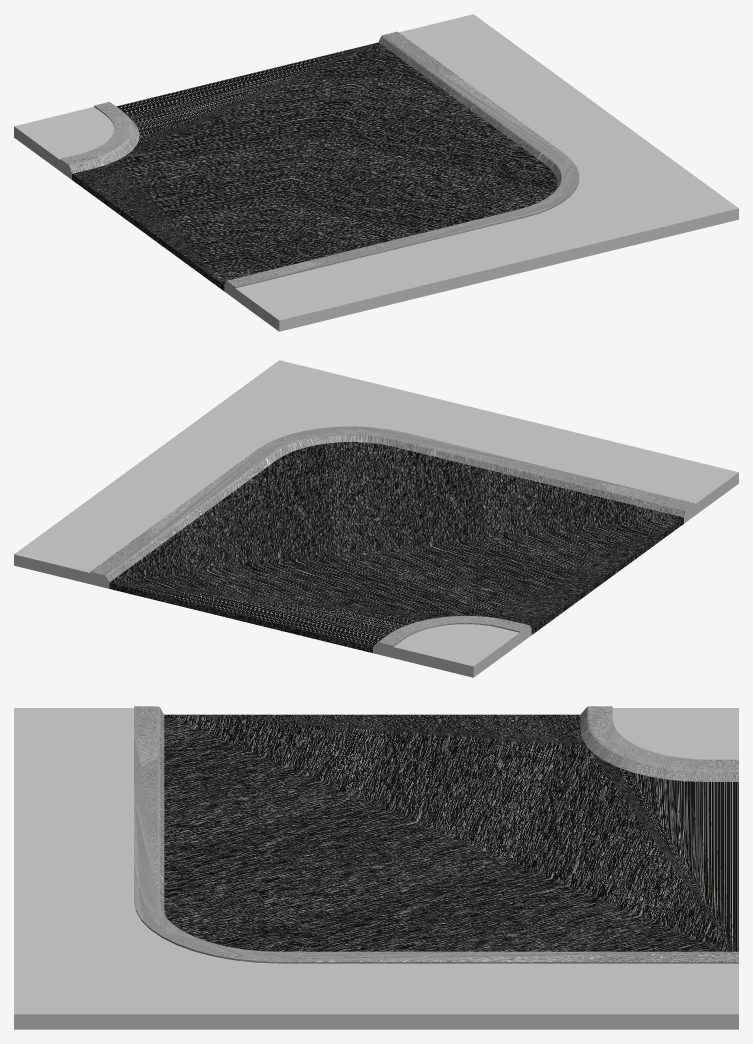
Rendered from tile5.fbx.
3 renders of one model, top to bottom at view 1: azimuth 30°, elevation 25°; view 2: azimuth 150°, elevation 25°; view 3: azimuth 270°, elevation 25°, orthographic. The views are drawn at different scales.
Visible parts, largest first — view 1: Cube; view 2: Cube; view 3: Cube.
Boxes of the visible parts, bbox=[...] form: Cube: bbox=[14, 14, 738, 331]; Cube: bbox=[14, 360, 738, 677]; Cube: bbox=[14, 706, 738, 1029].
Bounding box in the file's own units: 600 × 15.53 × 600.
